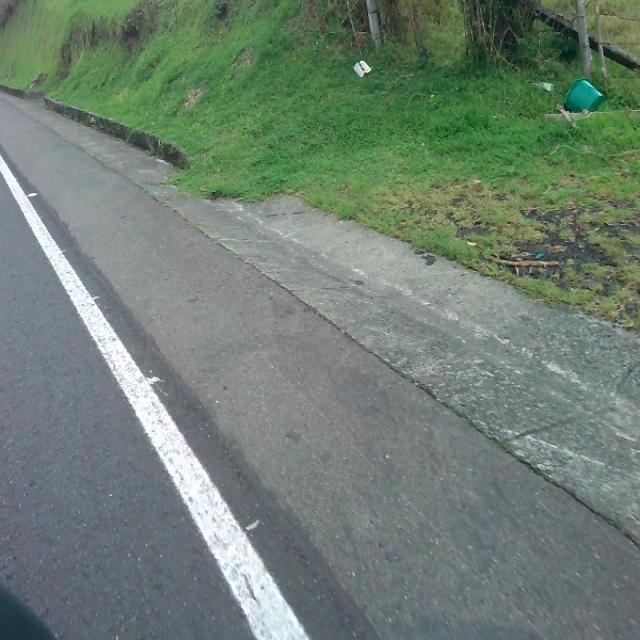DITCH: (38, 26, 638, 637), (1, 85, 638, 638)
